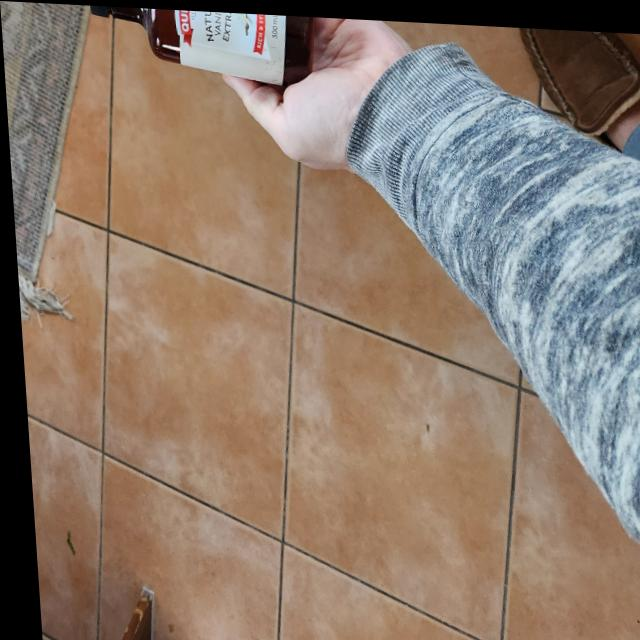vanilla: (88, 4, 322, 82)
